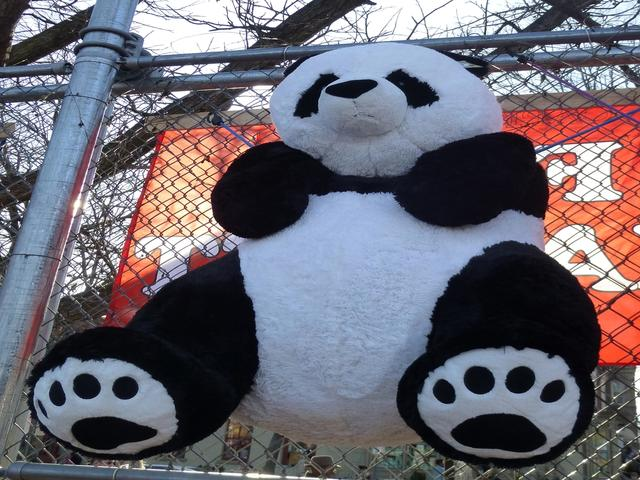panda: (1, 25, 629, 455)
